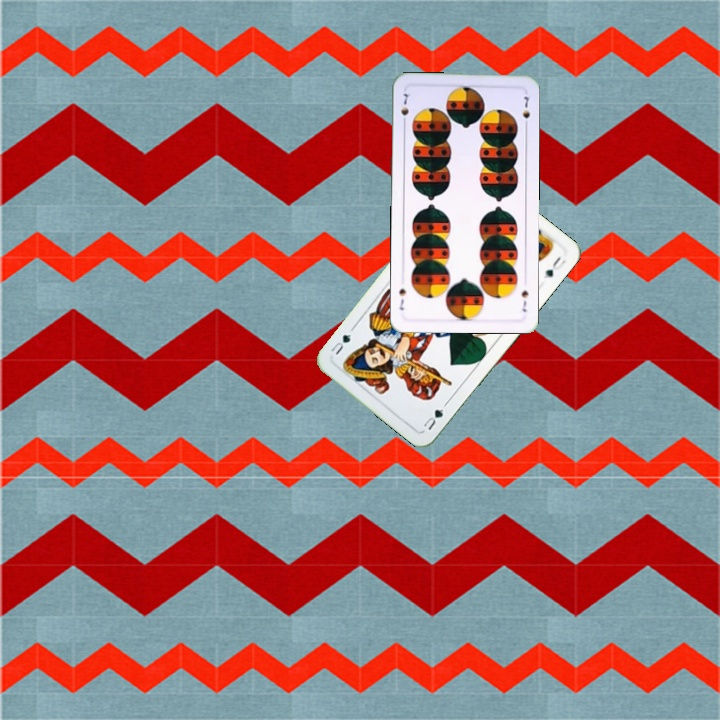GU: (419, 399, 450, 433)
S7: (397, 90, 413, 128), (517, 286, 531, 314)
